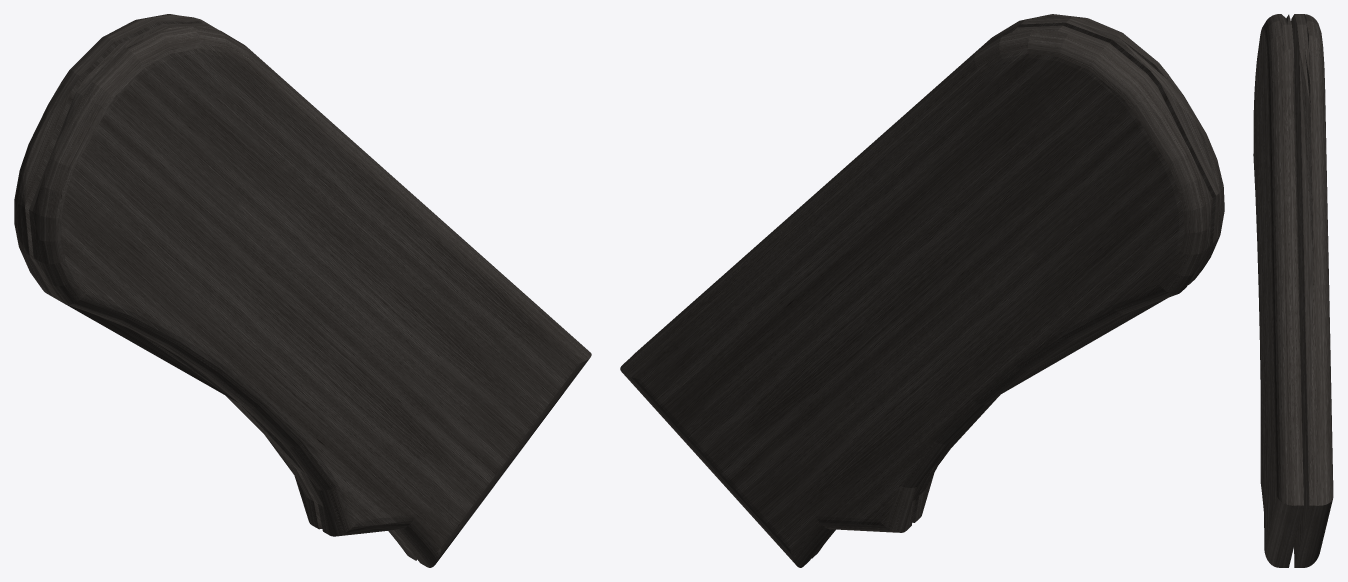
Rendered from cuchillo2.dae.
3 views of the same model, side by side, from view 1: azimuth 30°, elevation 25°; view 2: azimuth 150°, elevation 25°; view 3: azimuth 270°, elevation 25° (orthographic). The views are drawn at different scales.
Visible parts, largest first — view 1: node; view 2: node; view 3: node.
Part boxes in pixels (x1,y1,x2,y2): node: (14,14,591,567); node: (620,14,1224,567); node: (1253,14,1333,567).
Bounding box in the file's own units: 108 × 108 × 17.38.
Materials: 1 (1 with a texture image).
